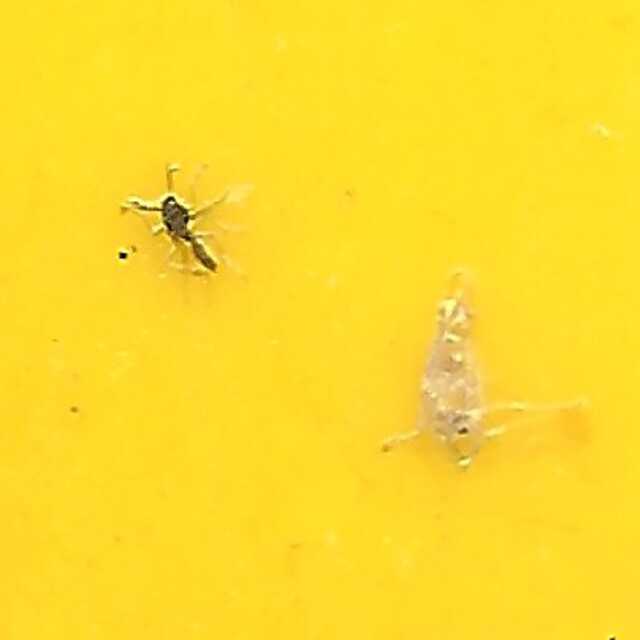Nematocera: (421, 286, 487, 457), (153, 183, 222, 282)
